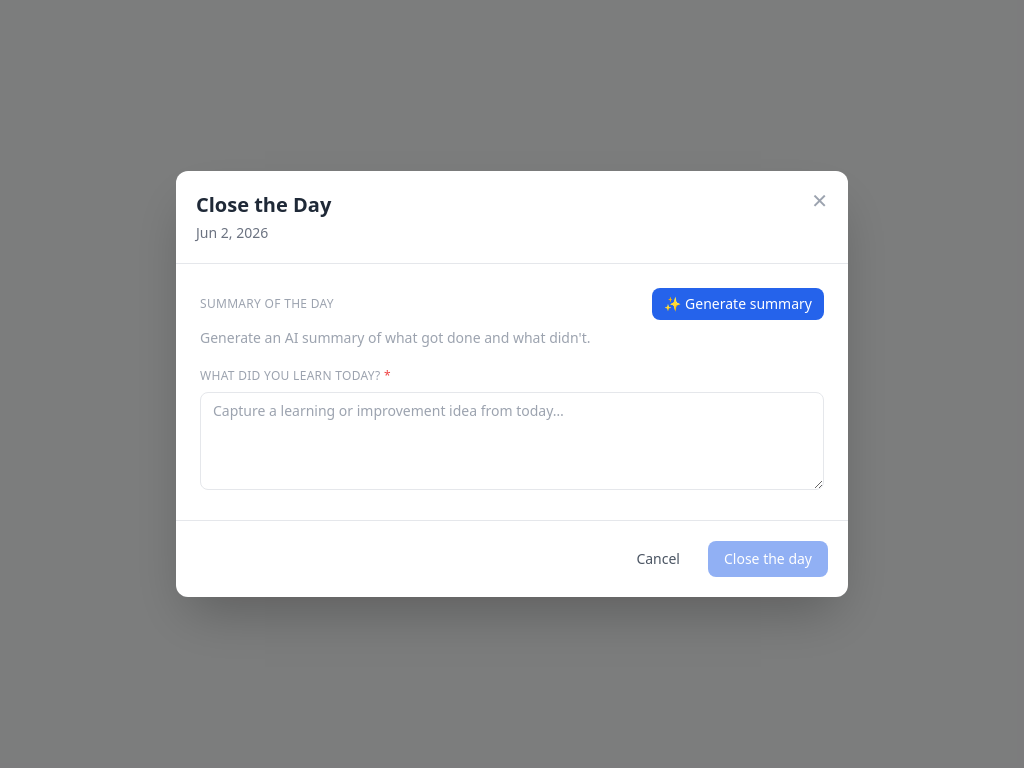
Test case: CloseDayModal › generates an AI summary with completed/incomplete breakdown
Click the button "✨ Generate summary".
click(738, 304)  # box [652,288,824,320]
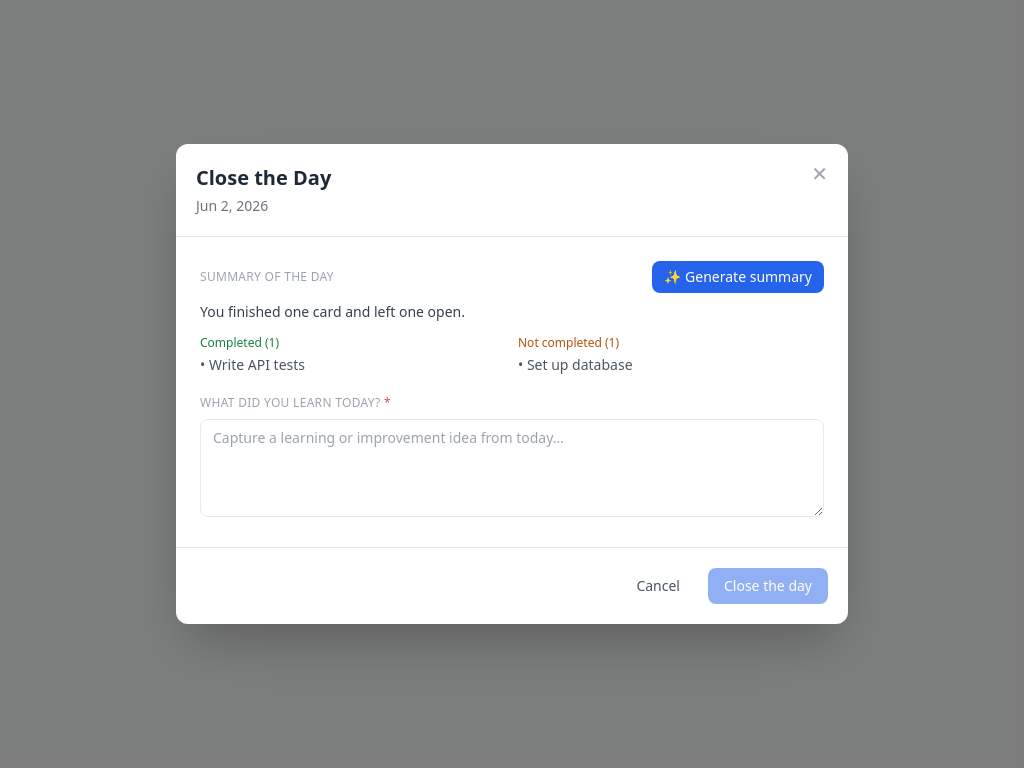
Result: the text with test id "close-day-summary" shows "finished one card" at [200,302,465,321]
Result: the list with test id "close-day-completed" shows "Write API tests" at [209,355,305,374]
Result: the list with test id "close-day-incomplete" shows "Set up database" at [527,355,632,374]
